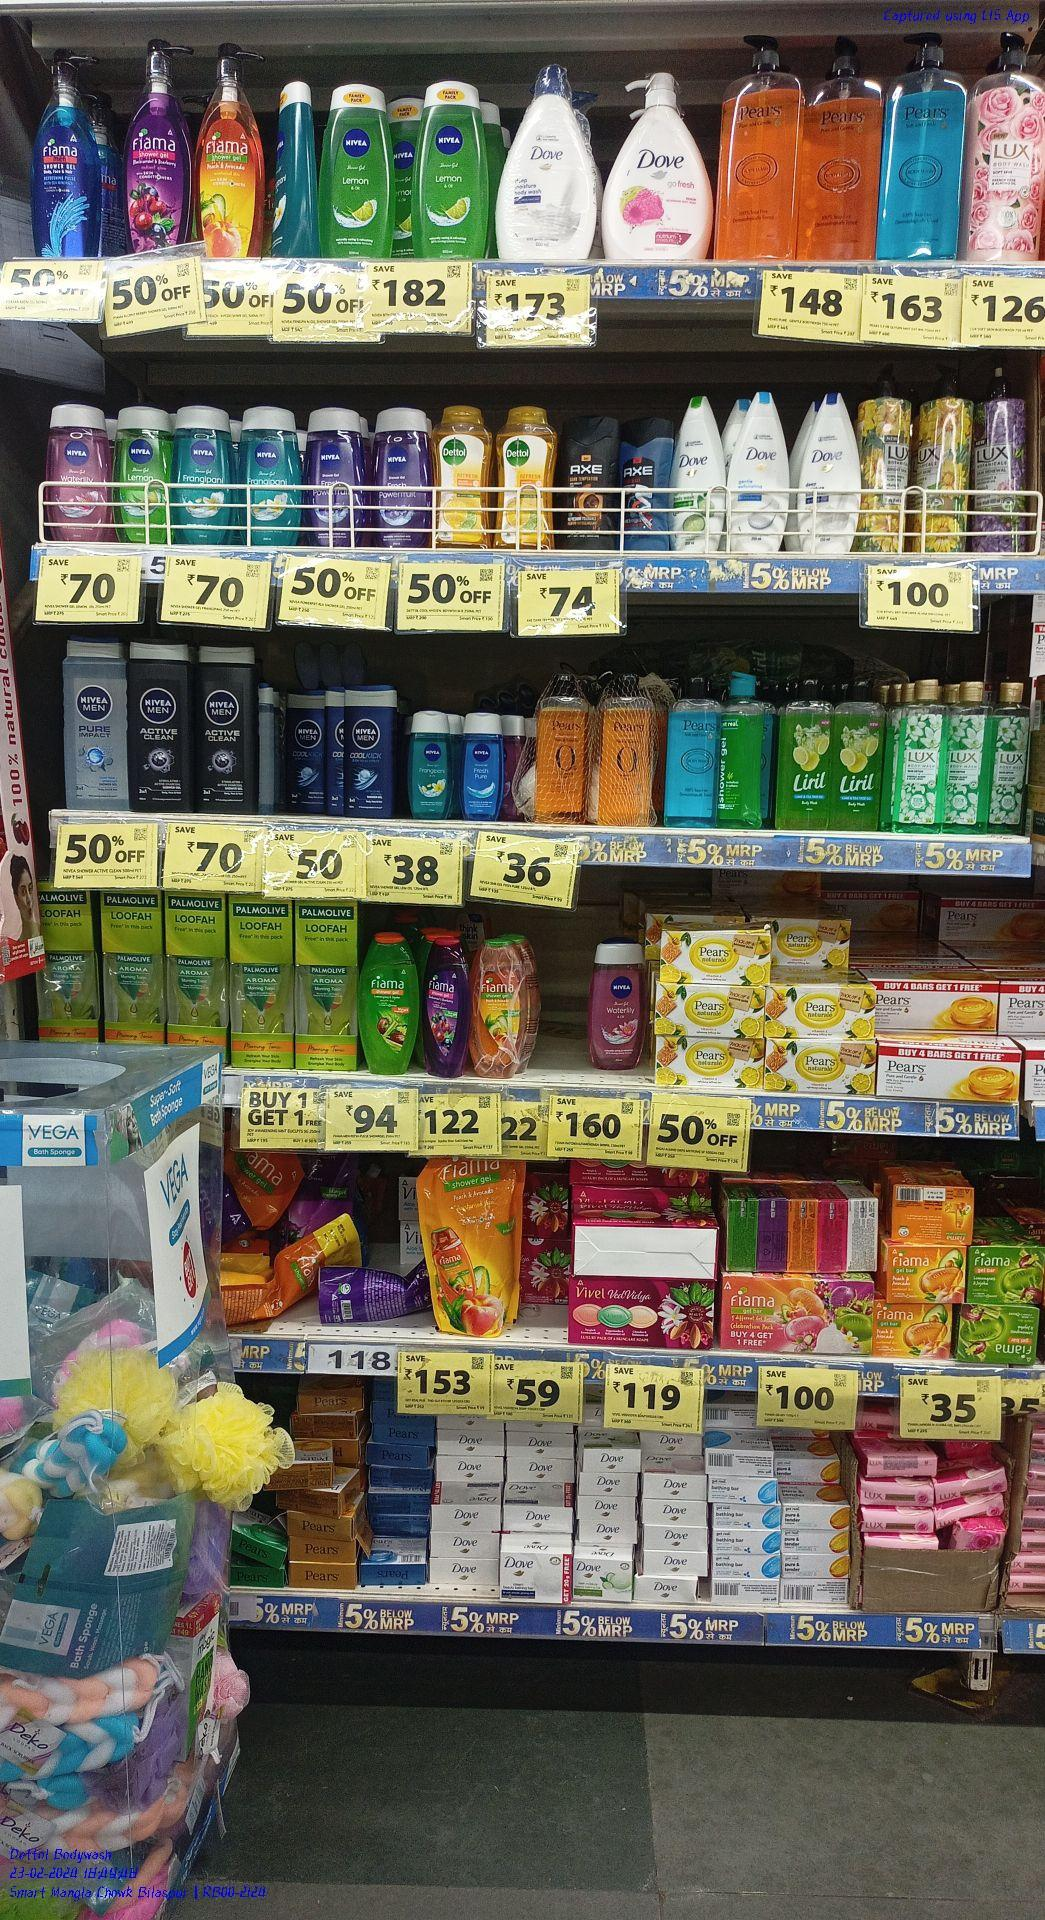Dettol_Bodywash_Refresh: (497, 405, 555, 548), (436, 405, 490, 546), (57, 481, 94, 486)
Dove_Deep_Moisture_Body_Wash_250ML: (802, 390, 858, 552)
Dove_Gentle_Exfoliating_Body_Wash_250ML: (732, 394, 791, 552)
Dove_Refreshing_Body_Wash_250ML: (674, 396, 725, 552)
Fiama_Shower_Gel_Lemongrass_and_Jojoba_250ML: (362, 939, 418, 1073)
Fiama_Shower_Gel_Peach_and_Avocado_250ML: (474, 942, 524, 1080)
Liril_Lime_and_Tea_Tree_Oil_Body_Wash_250ML: (776, 677, 829, 830), (833, 678, 882, 831)
Lux_Body_Wash_Skin_Detox_Freesia_Scent_and_Alove_Vera_245ML: (892, 678, 943, 835), (945, 685, 991, 835), (990, 682, 1030, 835)
Nivea_Shower_Gel_Frangipani_and_Oil_250ML: (237, 405, 299, 543), (171, 411, 230, 543), (411, 710, 452, 820)
Nivea_Shower_Gel_Fresh_Powerfruit_250ML: (368, 411, 430, 546), (305, 407, 362, 547)
Nivea_Shower_Gel_Lemon_and_Oil_250ML: (411, 78, 488, 256), (322, 89, 399, 260), (113, 405, 170, 542)
Nivea_Shower_Gel_Waterlily_and_Oil_250ML: (45, 408, 109, 538), (591, 943, 643, 1069)
